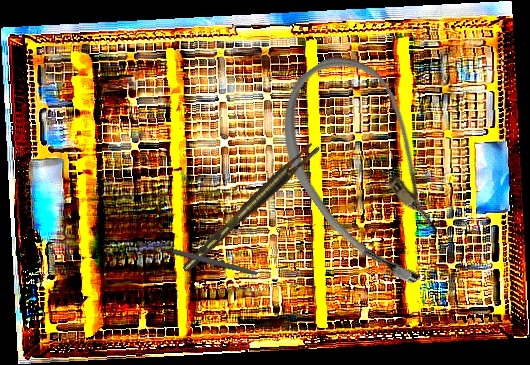Cannula: (250, 38, 489, 304)
Surgical Spoon: (136, 238, 258, 277)
Tissue Forceps: (175, 139, 325, 274)
